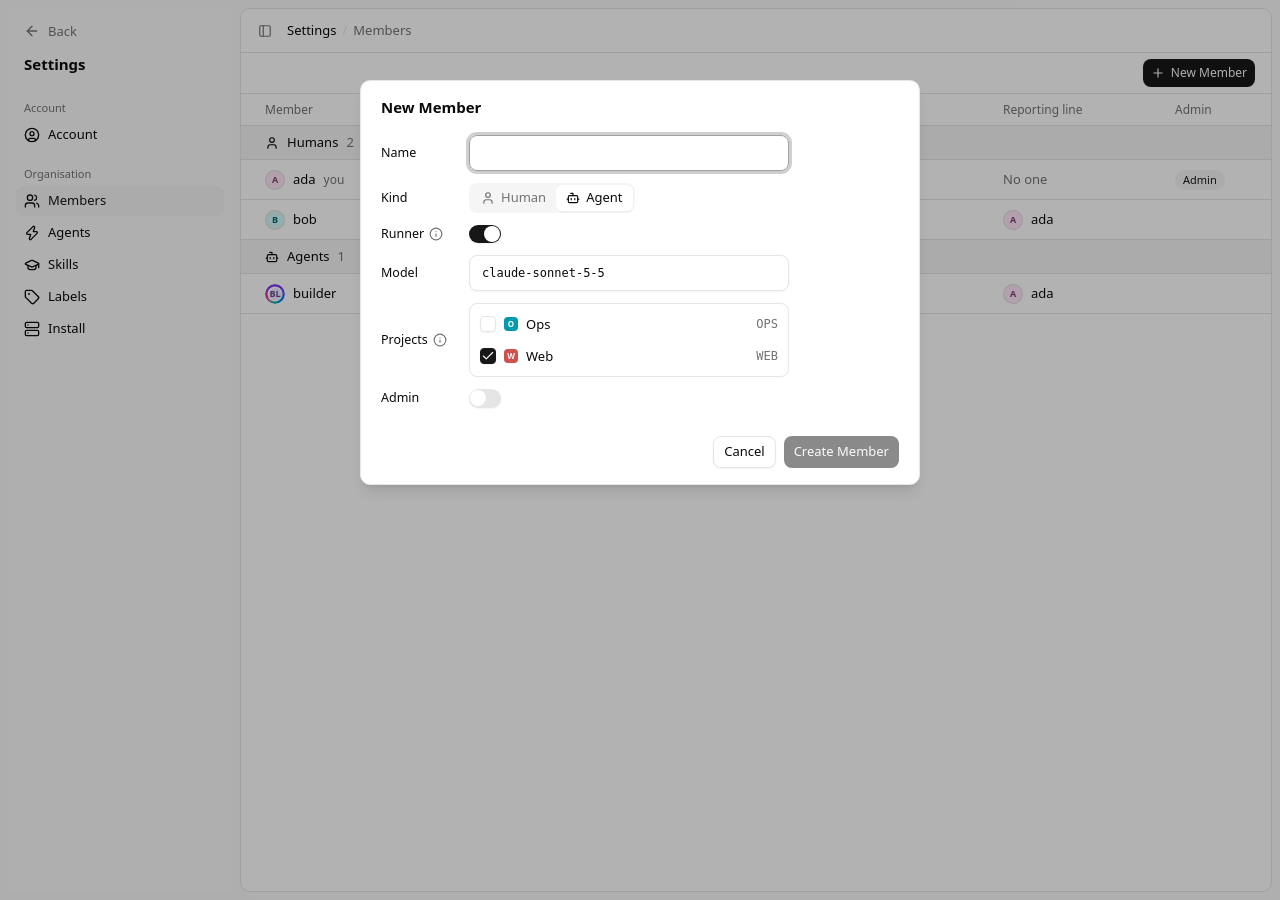
Test case: Settings › Members › says beside the secret what failed after the agent was made
Type "builder-9" into the field labelled "Name".
click(629, 153); type("builder-9")  # box [469,135,789,171]
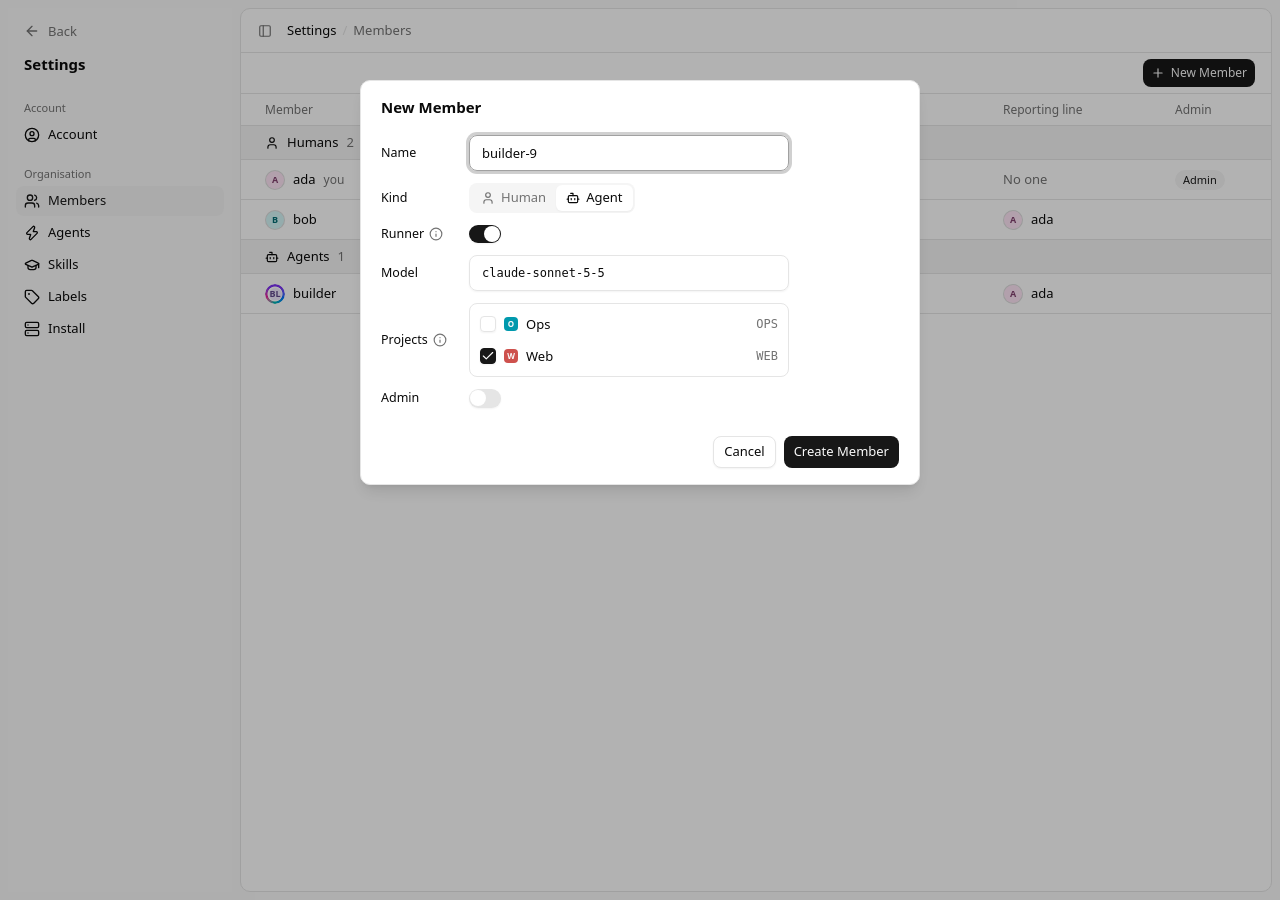
Click the button "Create Member".
click(841, 452)  # box [784,436,899,468]
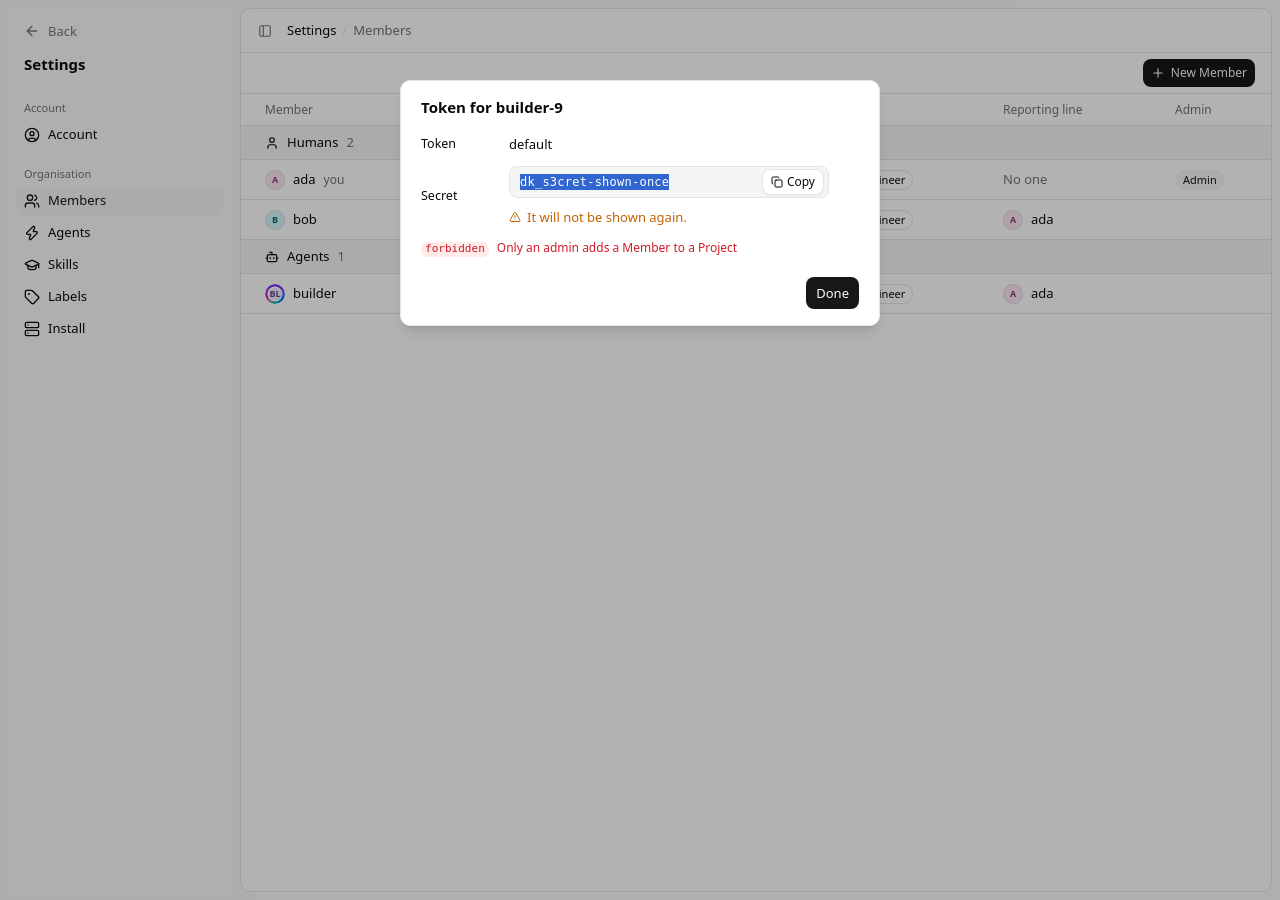
Now the field named "Secret of default" holds "dk_s3cret-shown-once", box [520,174,754,190]
Now the text "It will not be shown again." is shown, box [509,208,687,226]
Now the message reads "forbidden Only an admin adds a Member to a Project", box [421,239,737,257]
